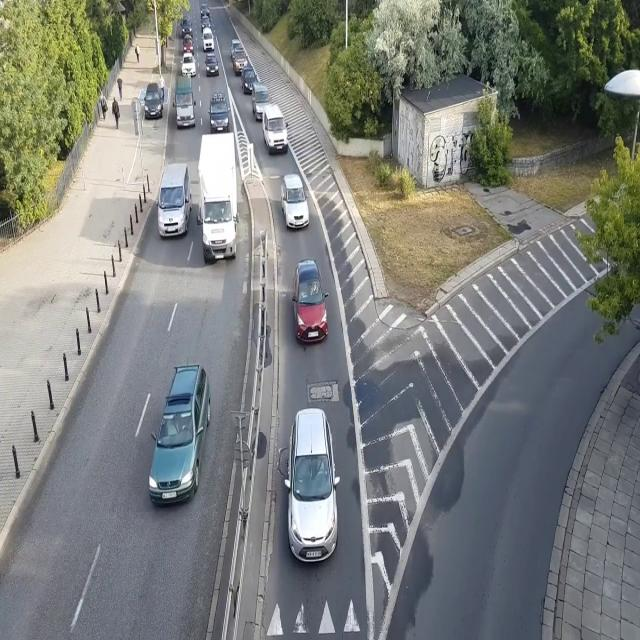car: (146, 361, 212, 509), (284, 405, 342, 564), (292, 256, 329, 347), (280, 173, 310, 231), (143, 83, 164, 119), (241, 67, 258, 95), (232, 48, 248, 77), (180, 52, 196, 78), (204, 53, 219, 76), (201, 28, 215, 52), (182, 35, 194, 57), (230, 38, 242, 58), (200, 16, 212, 31), (200, 3, 210, 18)
truck: (196, 133, 240, 267)
van: (155, 162, 193, 238), (263, 103, 289, 155), (172, 76, 196, 128), (208, 92, 231, 134), (251, 80, 270, 121), (180, 16, 193, 38)
